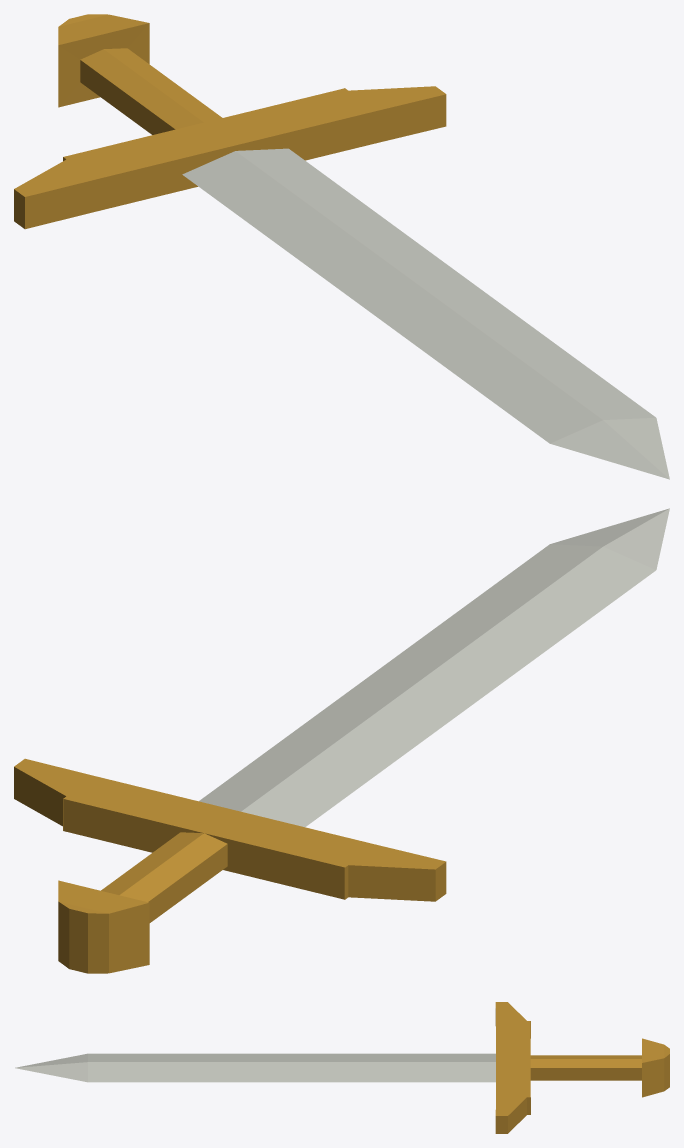
File: joyeuse.glb
3 views of the same model, one above another, from view 1: azimuth 30°, elevation 25°; view 2: azimuth 150°, elevation 25°; view 3: azimuth 270°, elevation 25° (orthographic). The views are drawn at different scales.
Visible parts, largest first — view 1: Cube; view 2: Cube; view 3: Cube.
Boxes of the visible parts, box(x1,y1,x2,y2) form: Cube: box(14, 14, 669, 479); Cube: box(14, 508, 669, 973); Cube: box(15, 1002, 669, 1133).
Size of the model in its own units: 7.28 by 1.03 by 17.69.
